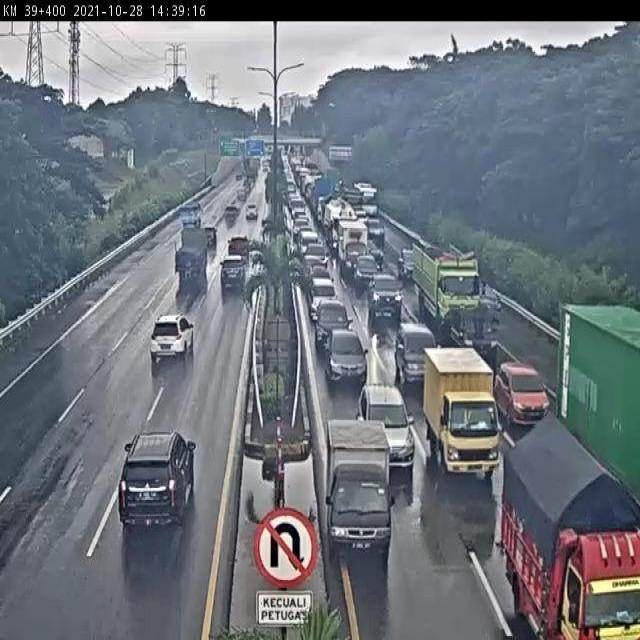big truck: (407, 236, 484, 331)
car: (116, 432, 194, 527), (359, 385, 419, 475), (492, 352, 555, 432), (320, 328, 374, 385), (395, 320, 439, 388), (314, 301, 356, 359), (149, 313, 194, 360), (368, 274, 402, 322), (308, 279, 338, 320), (219, 256, 246, 292), (226, 234, 249, 258)
mid truck: (502, 426, 640, 640), (419, 342, 504, 482), (173, 225, 207, 279)
small truck: (322, 414, 399, 562)
